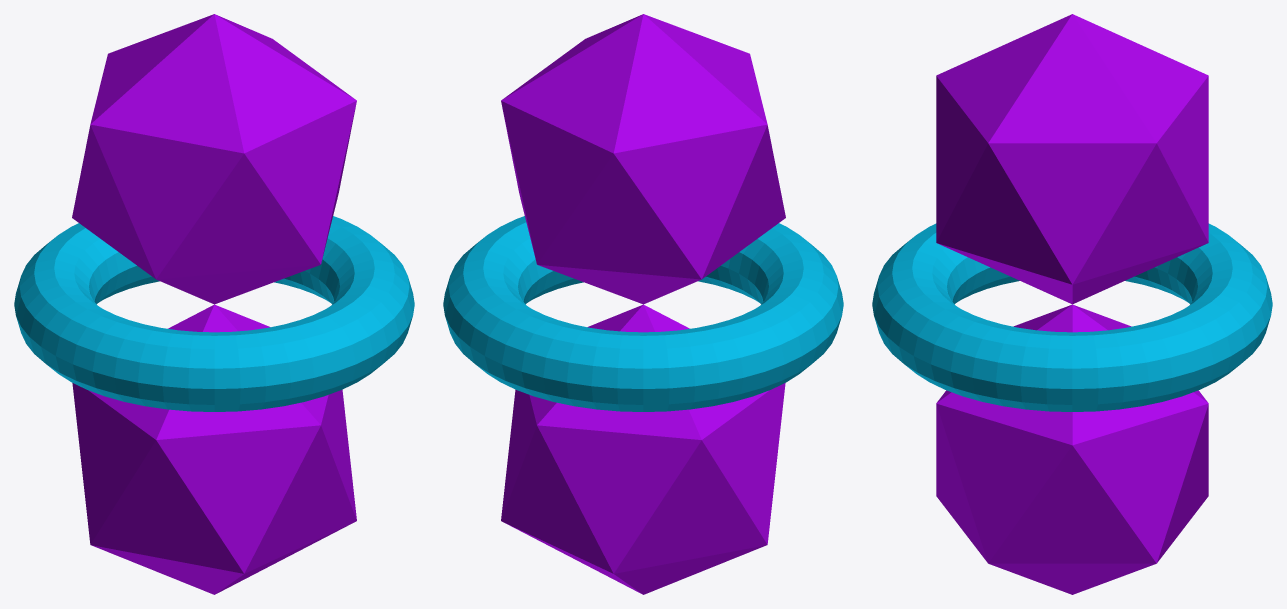
File: Creep_01.glb
3 renders of one model, left to right at view 1: azimuth 30°, elevation 25°; view 2: azimuth 150°, elevation 25°; view 3: azimuth 270°, elevation 25°, orthographic.
Parts seen in each view (by area): view 1: TopIco, BottomIco, Torus; view 2: TopIco, BottomIco, Torus; view 3: TopIco, BottomIco, Torus.
Part boxes in pixels (bbox=[...]): TopIco: bbox=[72, 14, 356, 304]; BottomIco: bbox=[72, 304, 356, 594]; Torus: bbox=[14, 216, 414, 411]; TopIco: bbox=[501, 14, 785, 304]; BottomIco: bbox=[501, 304, 785, 594]; Torus: bbox=[443, 216, 843, 411]; TopIco: bbox=[936, 14, 1208, 304]; BottomIco: bbox=[936, 304, 1208, 594]; Torus: bbox=[872, 223, 1272, 411].
Bounding box in the file's own units: 2.5 × 4 × 2.5.
